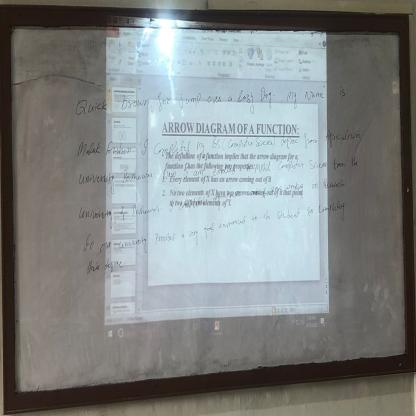Handwritten text: (80, 194, 352, 262), (72, 77, 358, 124), (73, 120, 368, 162)
Whiteboard: (2, 15, 408, 402)
